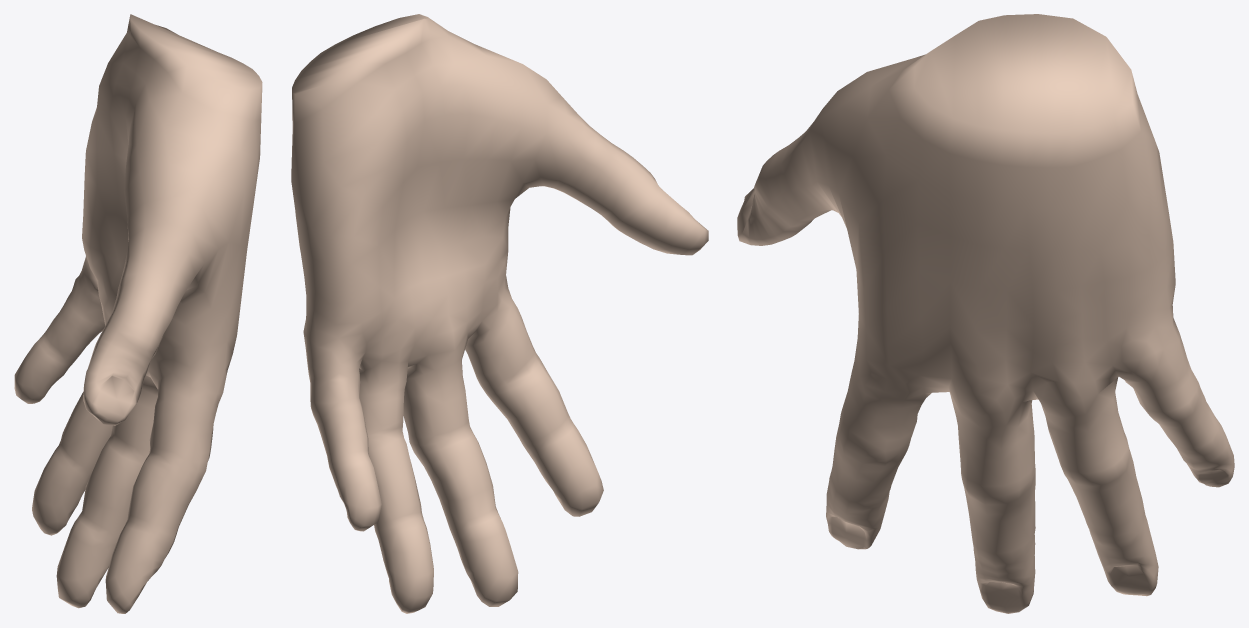
Rendered from right_hand.dae.
3 views of the same model, side by side, from view 1: azimuth 30°, elevation 25°; view 2: azimuth 150°, elevation 25°; view 3: azimuth 270°, elevation 25° (orthographic). The views are drawn at different scales.
Visible parts, largest first — view 1: right-hand; view 2: right-hand; view 3: right-hand.
Boxes of the visible parts, left/top/right/bottom form: right-hand: left=14, top=14, right=262, bottom=613; right-hand: left=291, top=14, right=708, bottom=613; right-hand: left=737, top=14, right=1234, bottom=613.
Bounding box in the file's own units: 0.0853 × 0.1152 × 0.1643.
